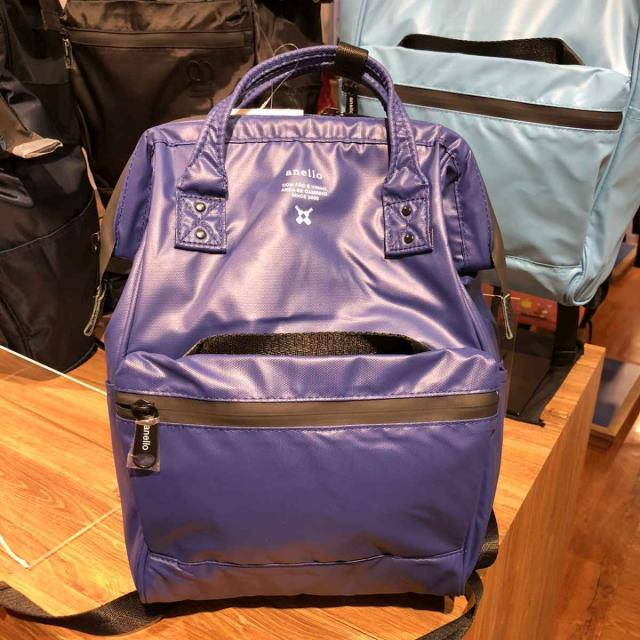Handbag: (87, 44, 515, 606)
